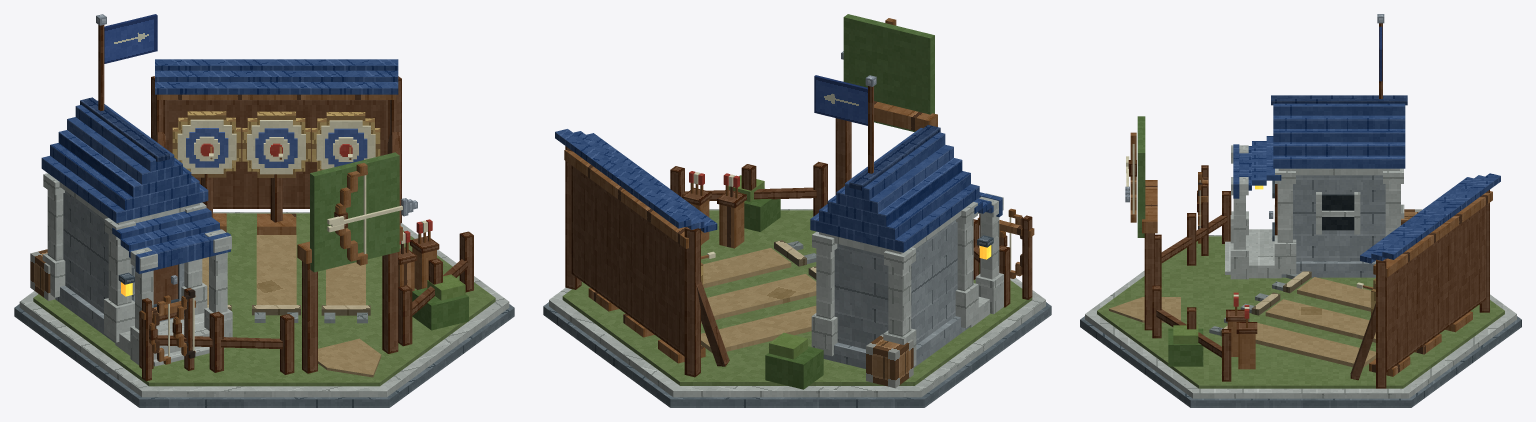
The model's file is ranger_camp_hex_v1.glb.
3 views of the same model, side by side, from view 1: azimuth 30°, elevation 25°; view 2: azimuth 150°, elevation 25°; view 3: azimuth 270°, elevation 25° (orthographic). The views are drawn at different scales.
Parts seen in each view (by area): view 1: Ranger_Camp_Hex_V1_Foundation, Ranger_Camp_Hex_V1_Roofs, Ranger_Camp_Hex_V1_Targets, Ranger_Camp_Hex_V1_Hall, Ranger_Camp_Hex_V1_Heraldry, Ranger_Camp_Hex_V1_Courtyard, Ranger_Camp_Hex_V1_Equipment, Ranger_Camp_Hex_V1_Details; view 2: Ranger_Camp_Hex_V1_Foundation, Ranger_Camp_Hex_V1_Hall, Ranger_Camp_Hex_V1_Targets, Ranger_Camp_Hex_V1_Roofs, Ranger_Camp_Hex_V1_Heraldry, Ranger_Camp_Hex_V1_Courtyard, Ranger_Camp_Hex_V1_Details, Ranger_Camp_Hex_V1_Equipment; view 3: Ranger_Camp_Hex_V1_Foundation, Ranger_Camp_Hex_V1_Hall, Ranger_Camp_Hex_V1_Roofs, Ranger_Camp_Hex_V1_Targets, Ranger_Camp_Hex_V1_Courtyard, Ranger_Camp_Hex_V1_Heraldry, Ranger_Camp_Hex_V1_Equipment, Ranger_Camp_Hex_V1_Details.
Boxes of the visible parts, left/top/right/bottom form: Ranger_Camp_Hex_V1_Foundation: left=14, top=212, right=514, bottom=407; Ranger_Camp_Hex_V1_Roofs: left=41, top=59, right=398, bottom=273; Ranger_Camp_Hex_V1_Targets: left=151, top=76, right=401, bottom=234; Ranger_Camp_Hex_V1_Hall: left=42, top=173, right=232, bottom=366; Ranger_Camp_Hex_V1_Heraldry: left=96, top=14, right=417, bottom=373; Ranger_Camp_Hex_V1_Courtyard: left=139, top=231, right=473, bottom=377; Ranger_Camp_Hex_V1_Equipment: left=140, top=146, right=439, bottom=381; Ranger_Camp_Hex_V1_Details: left=30, top=249, right=468, bottom=330; Ranger_Camp_Hex_V1_Foundation: left=543, top=209, right=1051, bottom=407; Ranger_Camp_Hex_V1_Hall: left=811, top=193, right=1003, bottom=368; Ranger_Camp_Hex_V1_Targets: left=564, top=146, right=729, bottom=377; Ranger_Camp_Hex_V1_Roofs: left=555, top=125, right=1002, bottom=252; Ranger_Camp_Hex_V1_Heraldry: left=814, top=14, right=937, bottom=194; Ranger_Camp_Hex_V1_Courtyard: left=670, top=161, right=1010, bottom=352; Ranger_Camp_Hex_V1_Details: left=728, top=175, right=993, bottom=389; Ranger_Camp_Hex_V1_Equipment: left=682, top=171, right=1034, bottom=299; Ranger_Camp_Hex_V1_Foundation: left=1080, top=235, right=1521, bottom=407; Ranger_Camp_Hex_V1_Hall: left=1225, top=145, right=1404, bottom=279; Ranger_Camp_Hex_V1_Roofs: left=1233, top=95, right=1500, bottom=263; Ranger_Camp_Hex_V1_Targets: left=1350, top=190, right=1492, bottom=388; Ranger_Camp_Hex_V1_Courtyard: left=1109, top=191, right=1375, bottom=381; Ranger_Camp_Hex_V1_Heraldry: left=1125, top=14, right=1384, bottom=330; Ranger_Camp_Hex_V1_Equipment: left=1197, top=165, right=1373, bottom=369; Ranger_Camp_Hex_V1_Details: left=1168, top=185, right=1422, bottom=366.
Size of the model in its own units: 1.59 by 1.2 by 1.84.
Materials: 1 (1 with a texture image).
